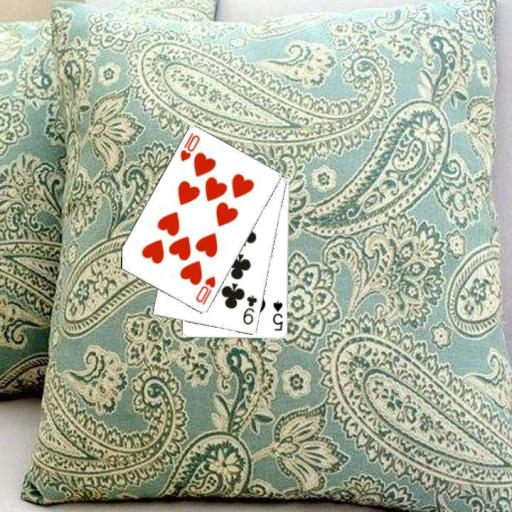10H: (193, 273, 218, 307), (177, 130, 202, 164)
5S: (270, 298, 285, 333)
9C: (240, 293, 259, 327)
